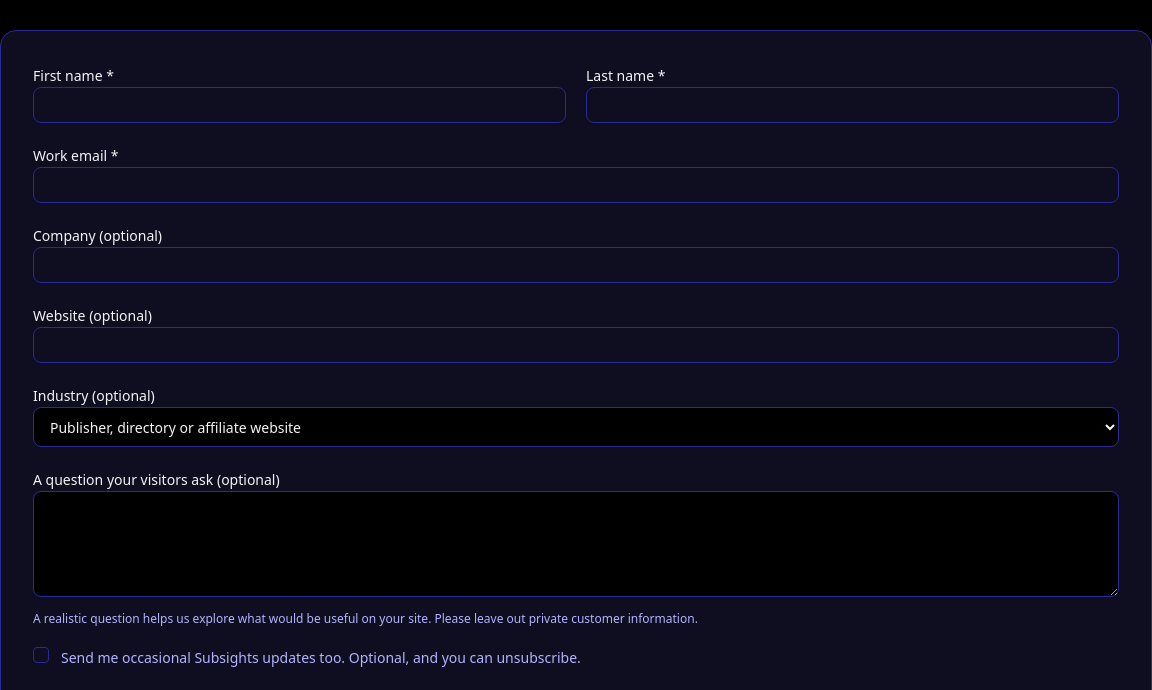
Test: website inquiry form › preserves industry context and keeps a failed request available to retry
The image size is (1152, 690).
Check: the dropdown labelled "Industry (optional)" shows "Publisher, directory or affiliate website", box top-left (33, 407), bottom-right (1119, 447)
In the field labelled "First name *": (300, 105) top-left (33, 87), bottom-right (566, 123), type "Example"
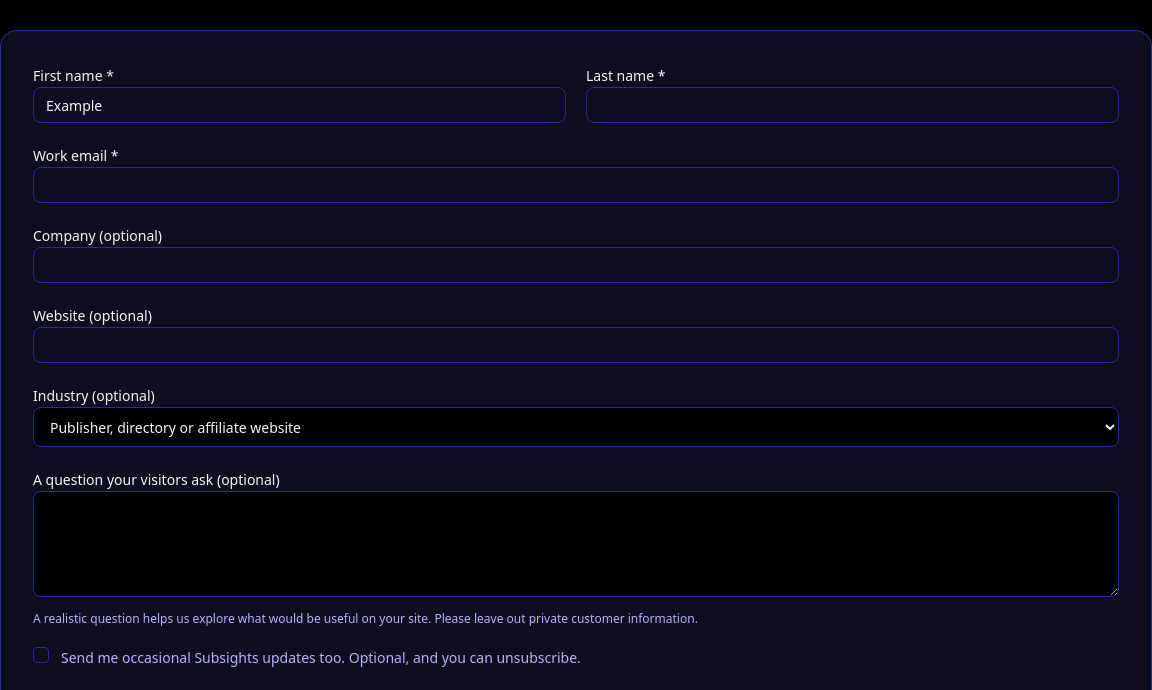
In the field labelled "Last name *": (852, 105) top-left (586, 87), bottom-right (1119, 123), type "Visitor"
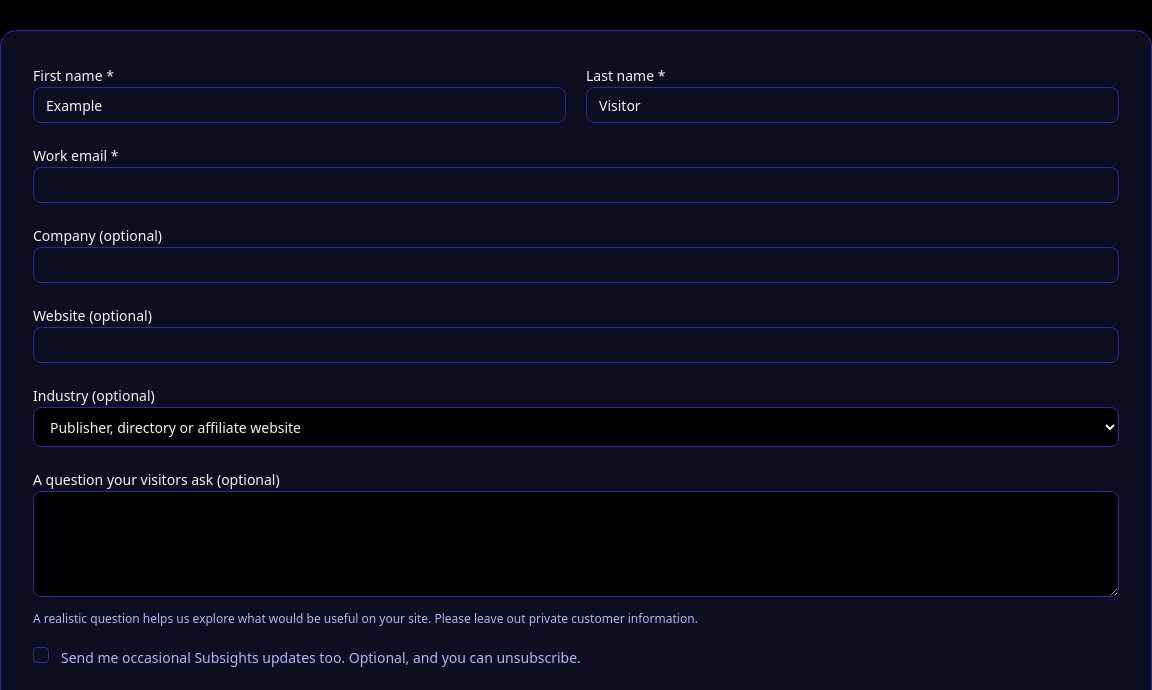
In the field labelled "Work email *": (576, 185) top-left (33, 167), bottom-right (1119, 203), type "visitor@example.test"
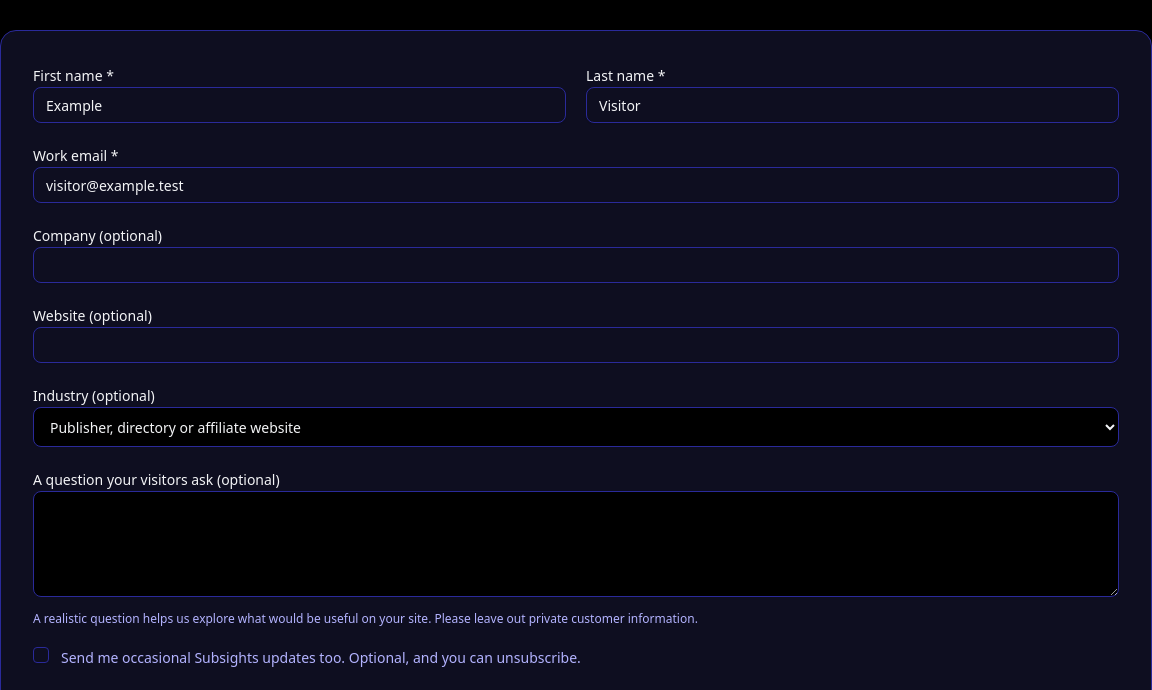
In the text box labelled "A question your visitors ask (optional)": (576, 544) top-left (33, 491), bottom-right (1119, 597), type "Which program fits?"
(page scrolled)
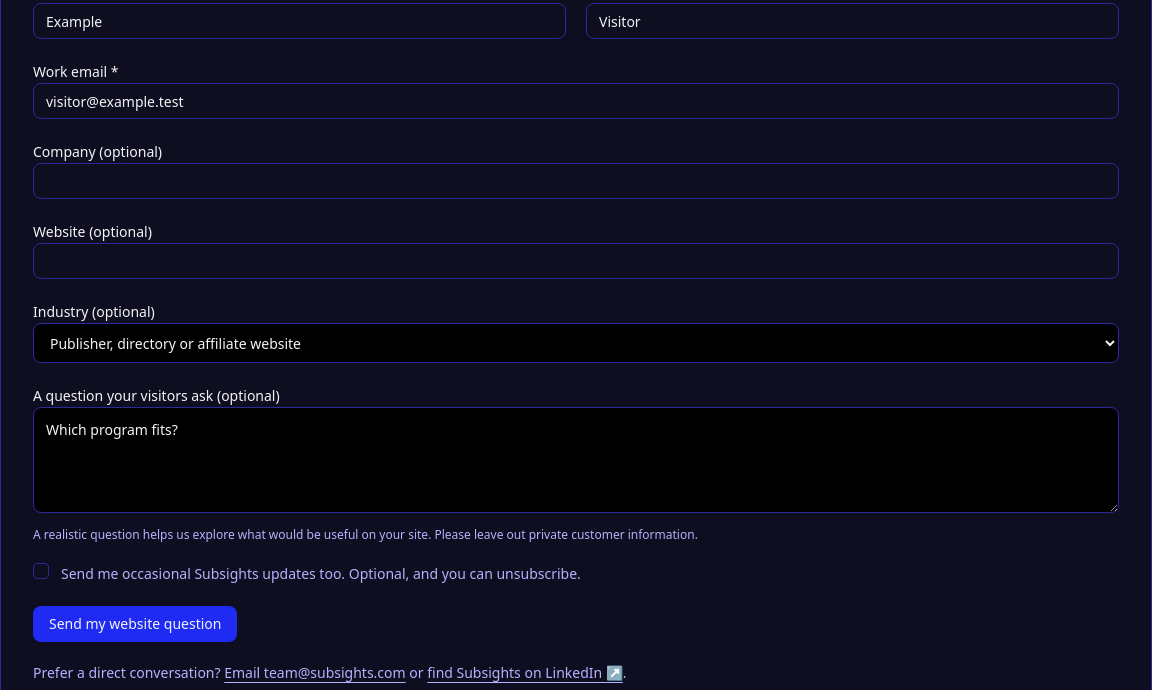
Click the button "Send my website question": (135, 624) top-left (33, 606), bottom-right (237, 642)
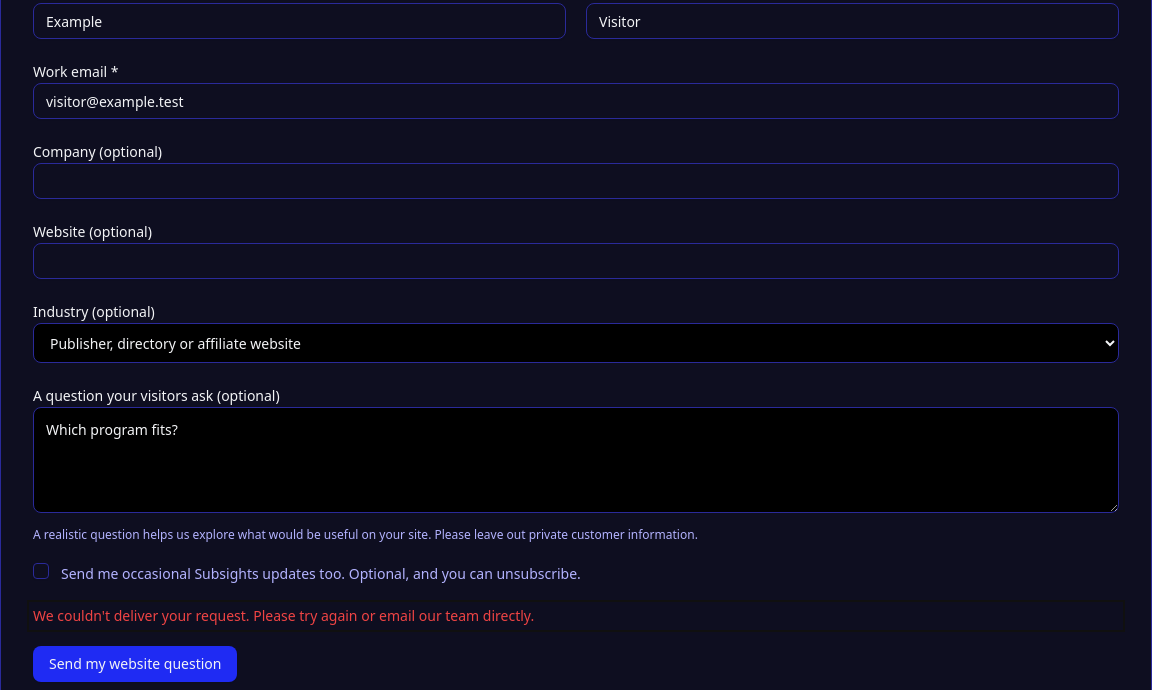
Check: the text "Your request is in." is not shown
Check: the message shows "couldn't deliver", box top-left (33, 606), bottom-right (534, 625)
Click the button "Send my website question": (135, 664) top-left (33, 646), bottom-right (237, 682)
(page scrolled)
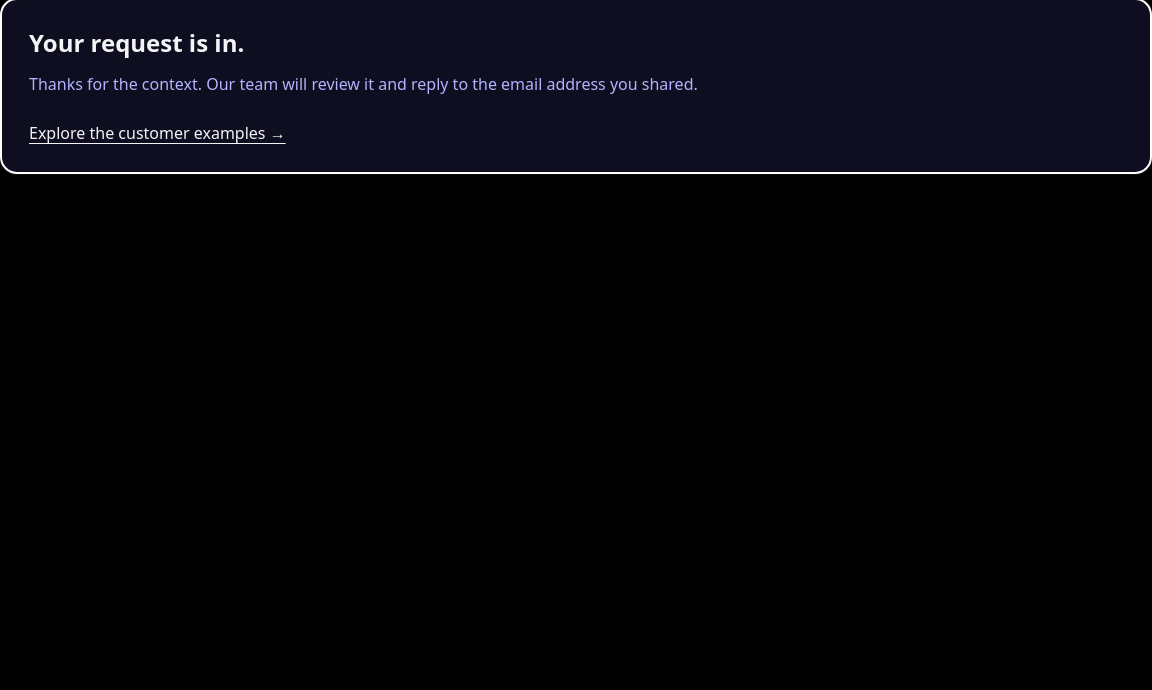
Check: the message "Your request is in." is shown, box top-left (29, 26), bottom-right (244, 59)
